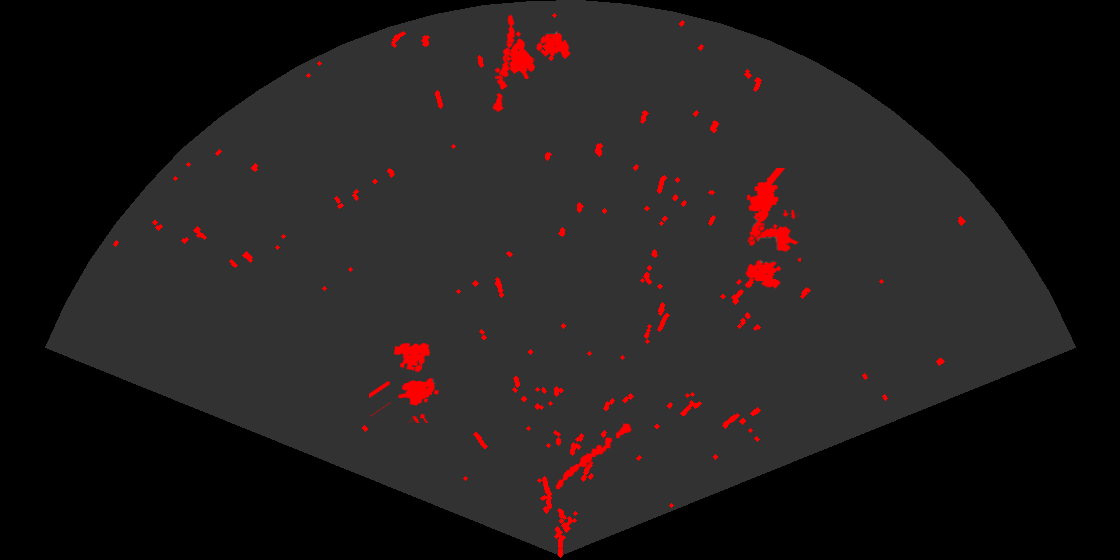cage: (369, 341, 440, 423), (744, 210, 801, 290), (495, 30, 572, 79)
chain: (554, 422, 633, 491), (491, 13, 517, 114)
frogman: (745, 168, 787, 247)
